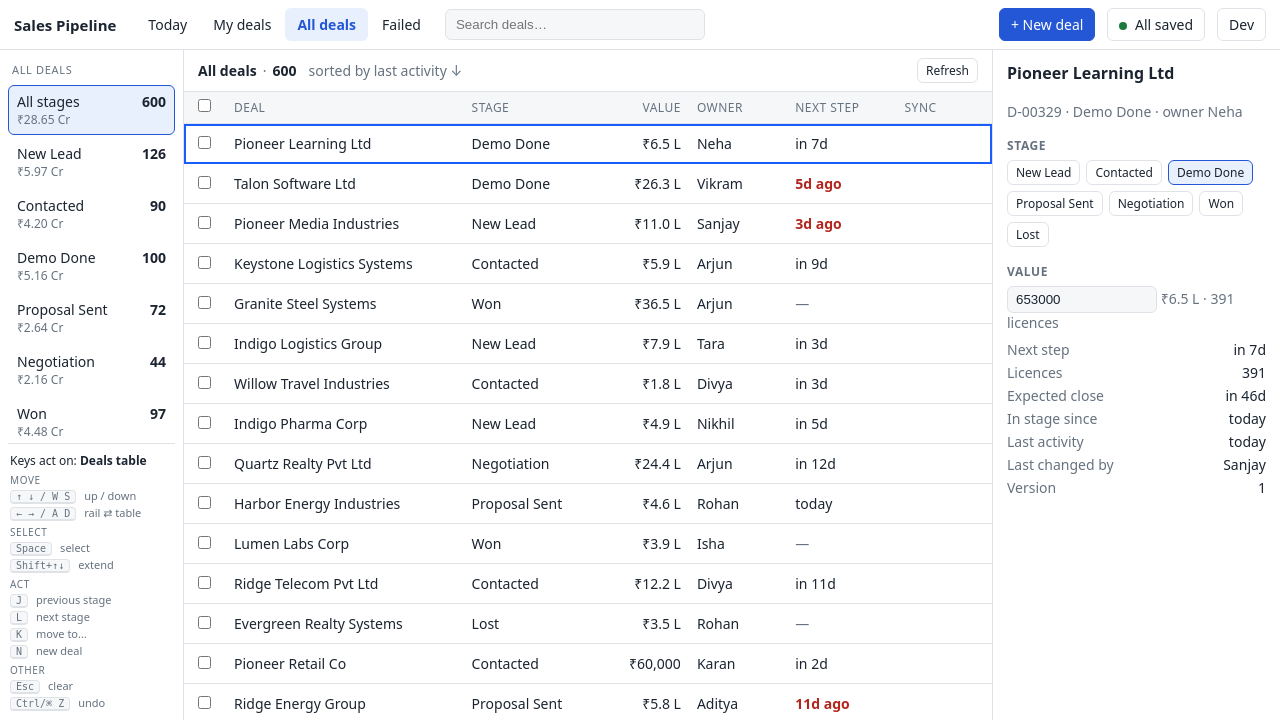
grid accessibility and keyboard › one stage filter drives the filter bar, the rail highlight, the rail cursor and the rows › selecting a stage, then switching to My deals, resets everything to "All stages"
Click the tab "Today" at [168, 24], box x1=136 y1=8 x2=199 y2=41
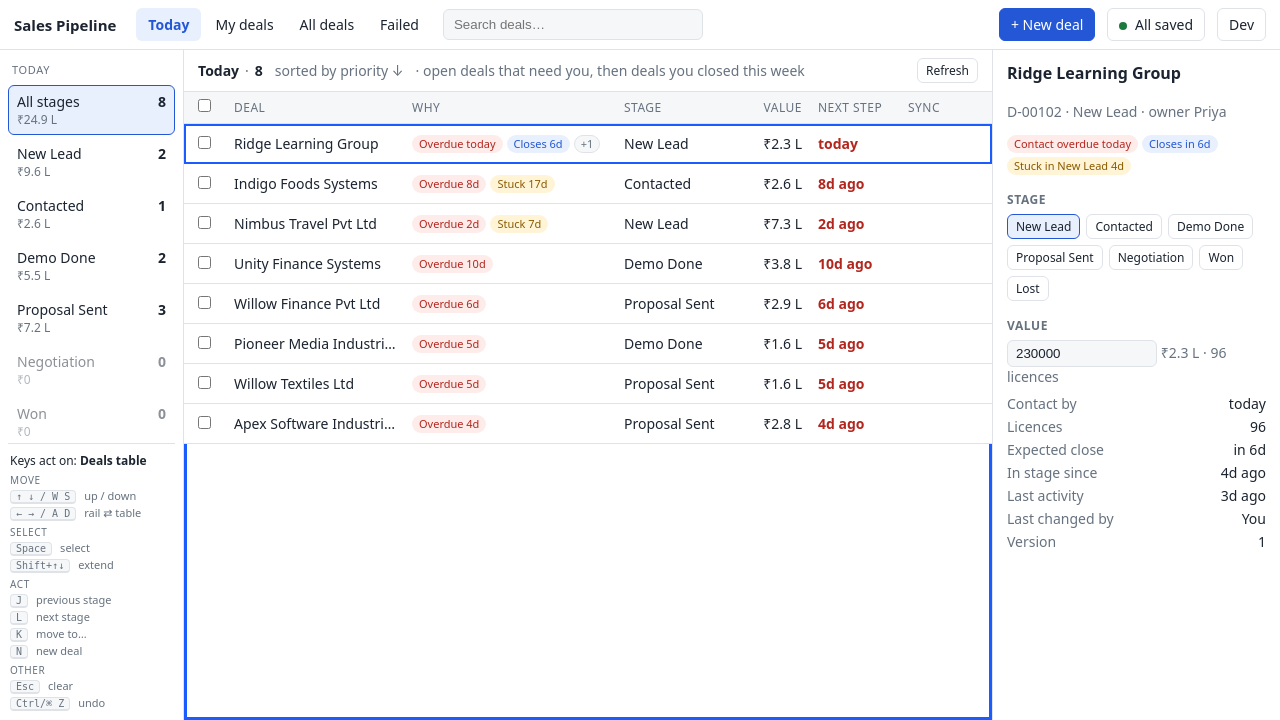
Click the button "Contacted 1 ₹2.6 L" at [92, 214], box x1=8 y1=189 x2=175 y2=239
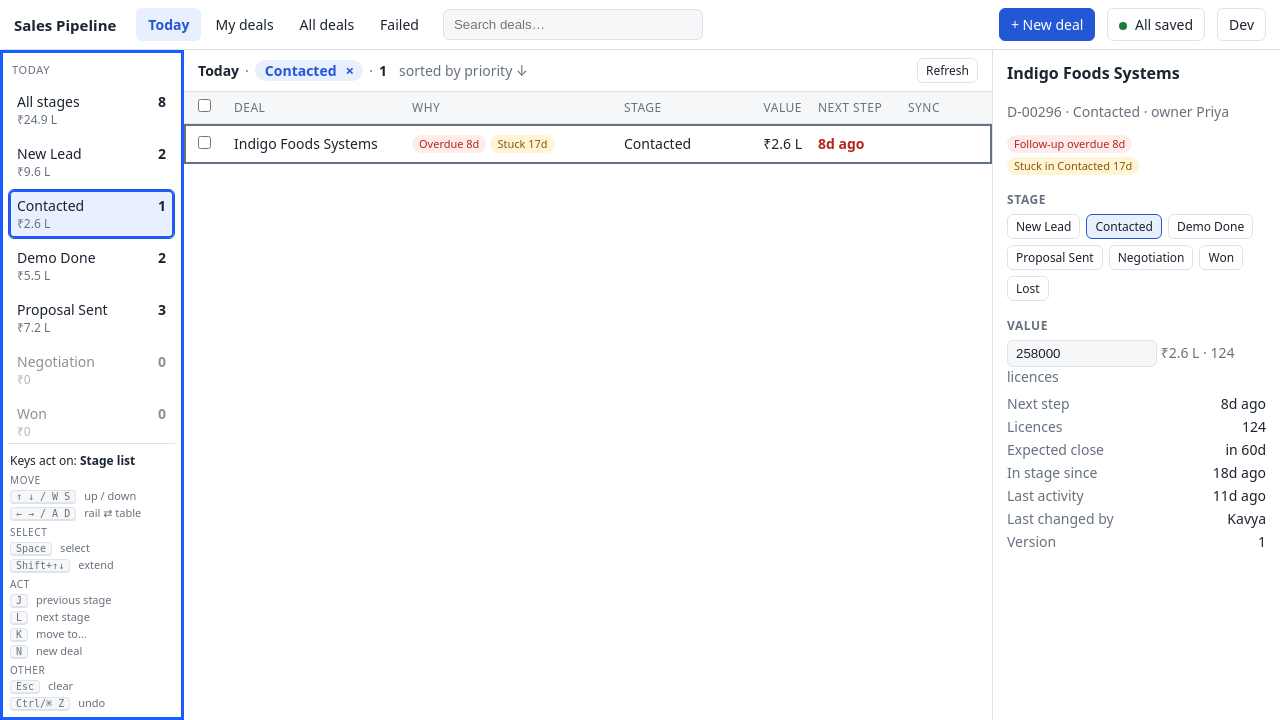
Click the tab "My deals" at [244, 24], box x1=203 y1=8 x2=286 y2=41
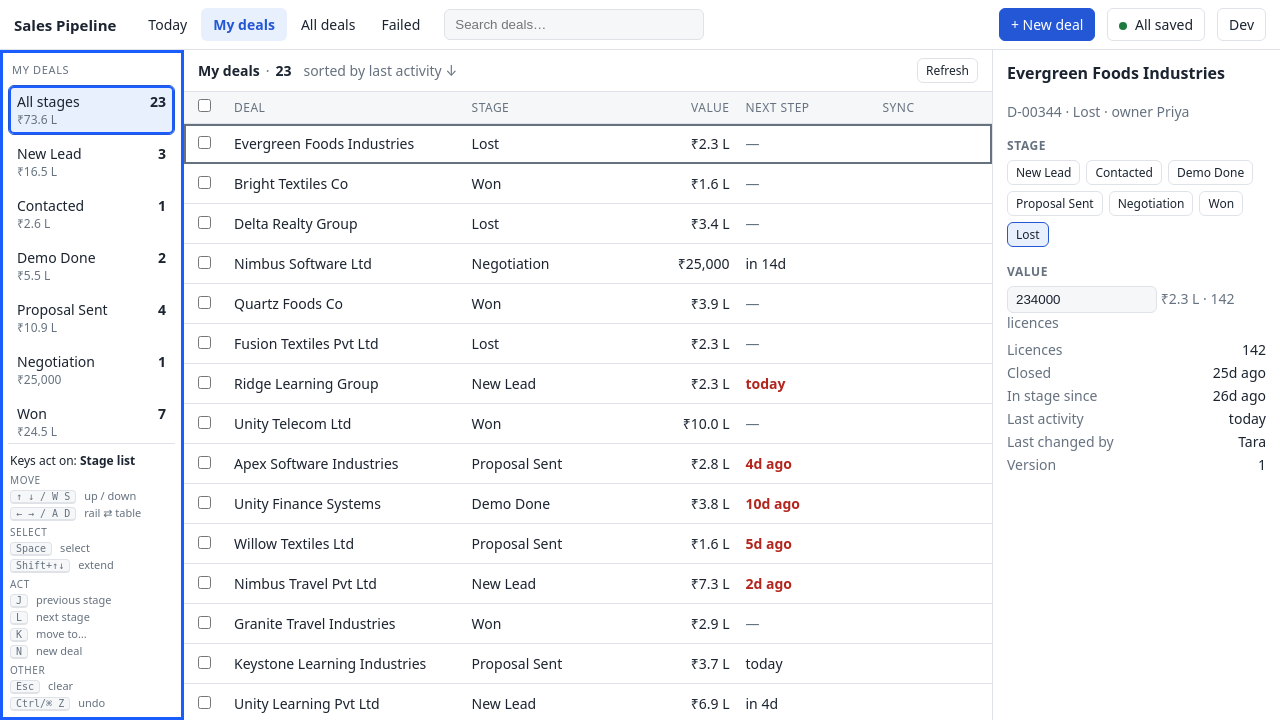
Expected: the button "All stages 23 ₹73.6 L" is shown, x1=8 y1=85 x2=175 y2=135
